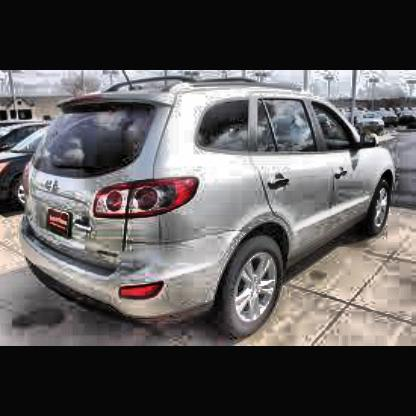Hyundai Santa Fe SUV 2012: (22, 79, 398, 331)
